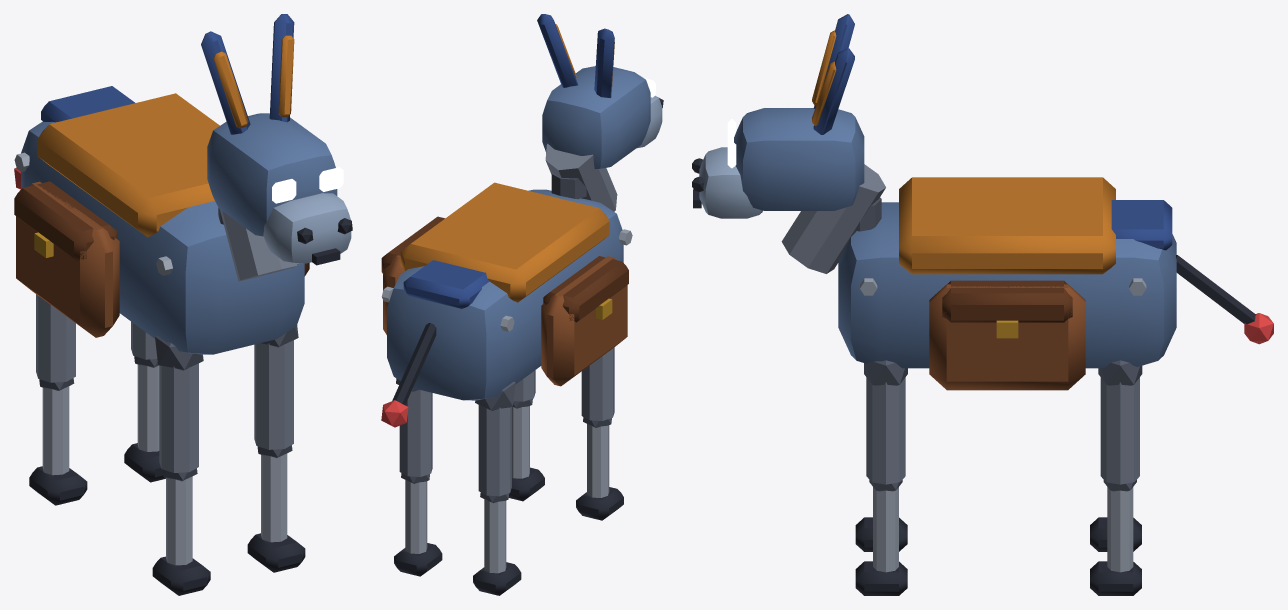
File: comp_esel.glb
3 renders of one model, left to right at view 1: azimuth 30°, elevation 25°; view 2: azimuth 150°, elevation 25°; view 3: azimuth 270°, elevation 25°, orthographic. The views are drawn at different scales.
Visible parts, largest first — view 1: body, head, leg_fl, leg_fr, leg_bl, leg_br, eyes_glow; view 2: body, head, leg_bl, leg_br, leg_fl, leg_fr, tail; view 3: body, head, leg_br, leg_fr, tail, leg_bl, leg_fl.
Part boxes in pixels (left/top/right/bottom): body: left=14, top=86, right=309, bottom=354; head: left=201, top=14, right=352, bottom=281; leg_fl: left=152, top=335, right=210, bottom=595; leg_fr: left=247, top=325, right=305, bottom=572; leg_bl: left=29, top=294, right=87, bottom=505; leg_br: left=124, top=321, right=165, bottom=482; eyes_glow: left=272, top=167, right=343, bottom=203; body: left=381, top=172, right=632, bottom=400; head: left=537, top=14, right=663, bottom=211; leg_bl: left=473, top=381, right=521, bottom=595; leg_br: left=394, top=378, right=442, bottom=576; leg_fl: left=576, top=347, right=623, bottom=520; leg_fr: left=509, top=370, right=544, bottom=501; tail: left=381, top=323, right=436, bottom=427; body: left=838, top=177, right=1176, bottom=390; head: left=692, top=14, right=885, bottom=273; leg_br: left=1090, top=360, right=1142, bottom=595; leg_fr: left=855, top=360, right=907, bottom=595; tail: left=1176, top=255, right=1273, bottom=344; leg_bl: left=1090, top=517, right=1141, bottom=551; leg_fl: left=855, top=517, right=907, bottom=551.
Size of the model in its own units: 0.62 by 1.36 by 1.34.
